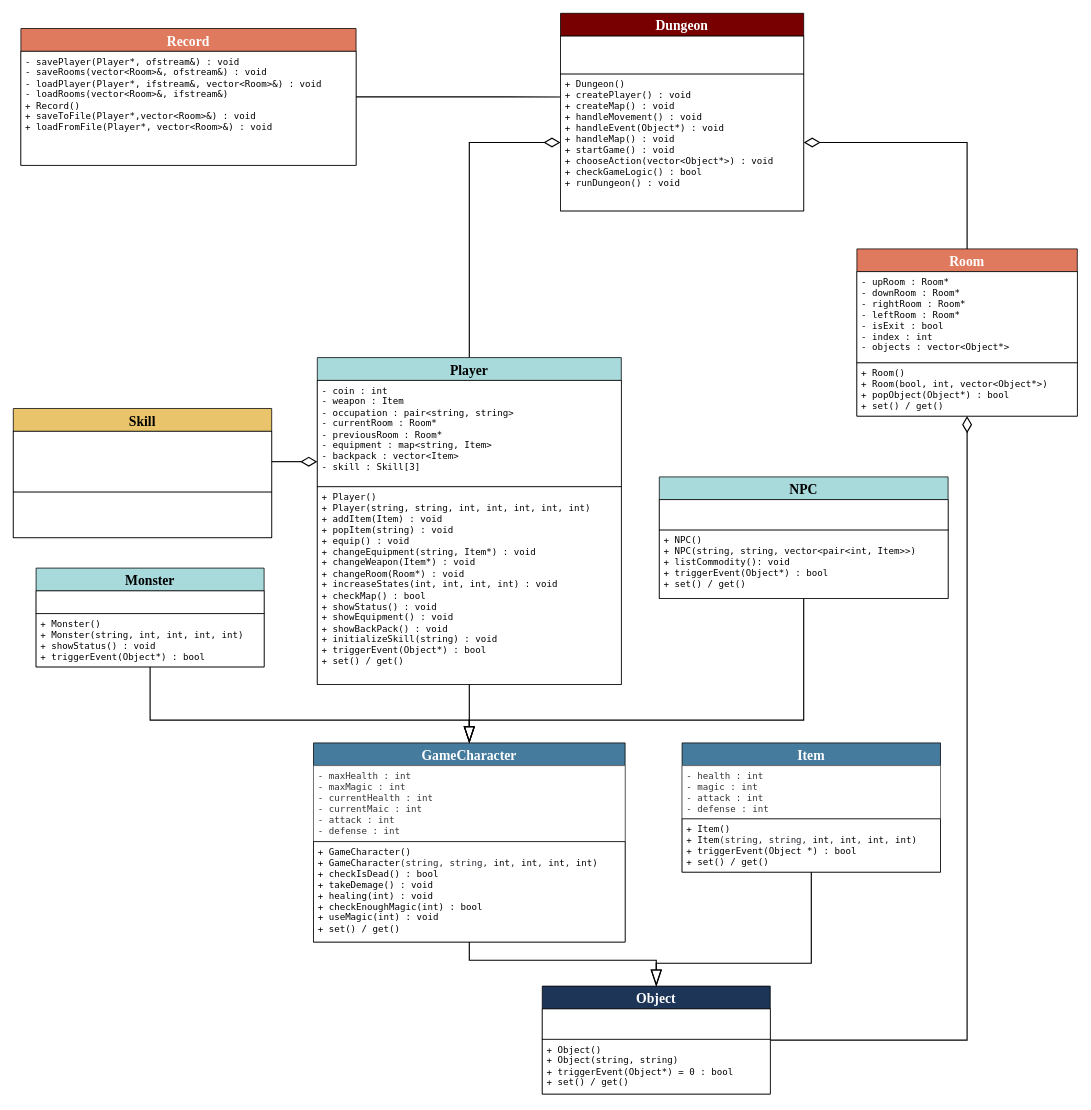
This 1091x1110 diagram has some shape labels left out. Each missing label, with the centre of its shape:
"+ Skill() + Skill(string, string, int, int, string) + set() / get()" belongs at (142,514).
"- fight : const string" belongs at (149,602).
"- name : string - tag : string" belongs at (656,1023).
"- player : Player - rooms : vector<Room>" belongs at (682,54).
"- script : string - commodity : vector<pair<int, Item>>" belongs at (803,514).
"- skillName : string - script : string - type : pair<string, int> - MP : int" belongs at (142,461).
